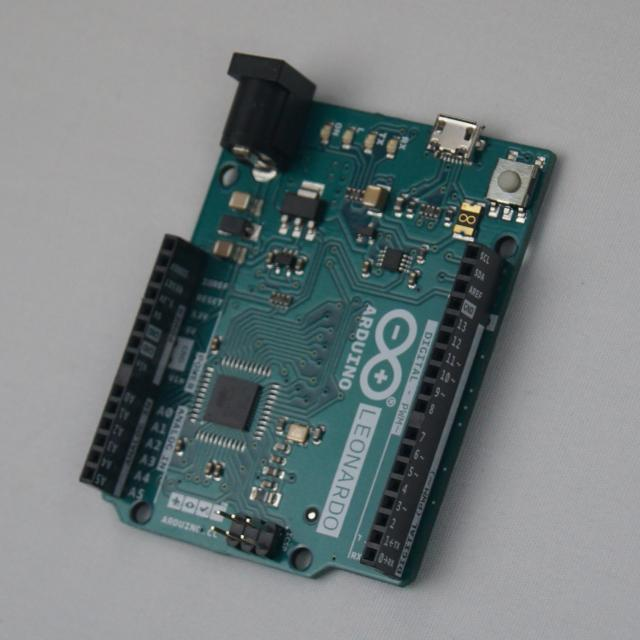Arduino-leonardo: (82, 54, 556, 586)
